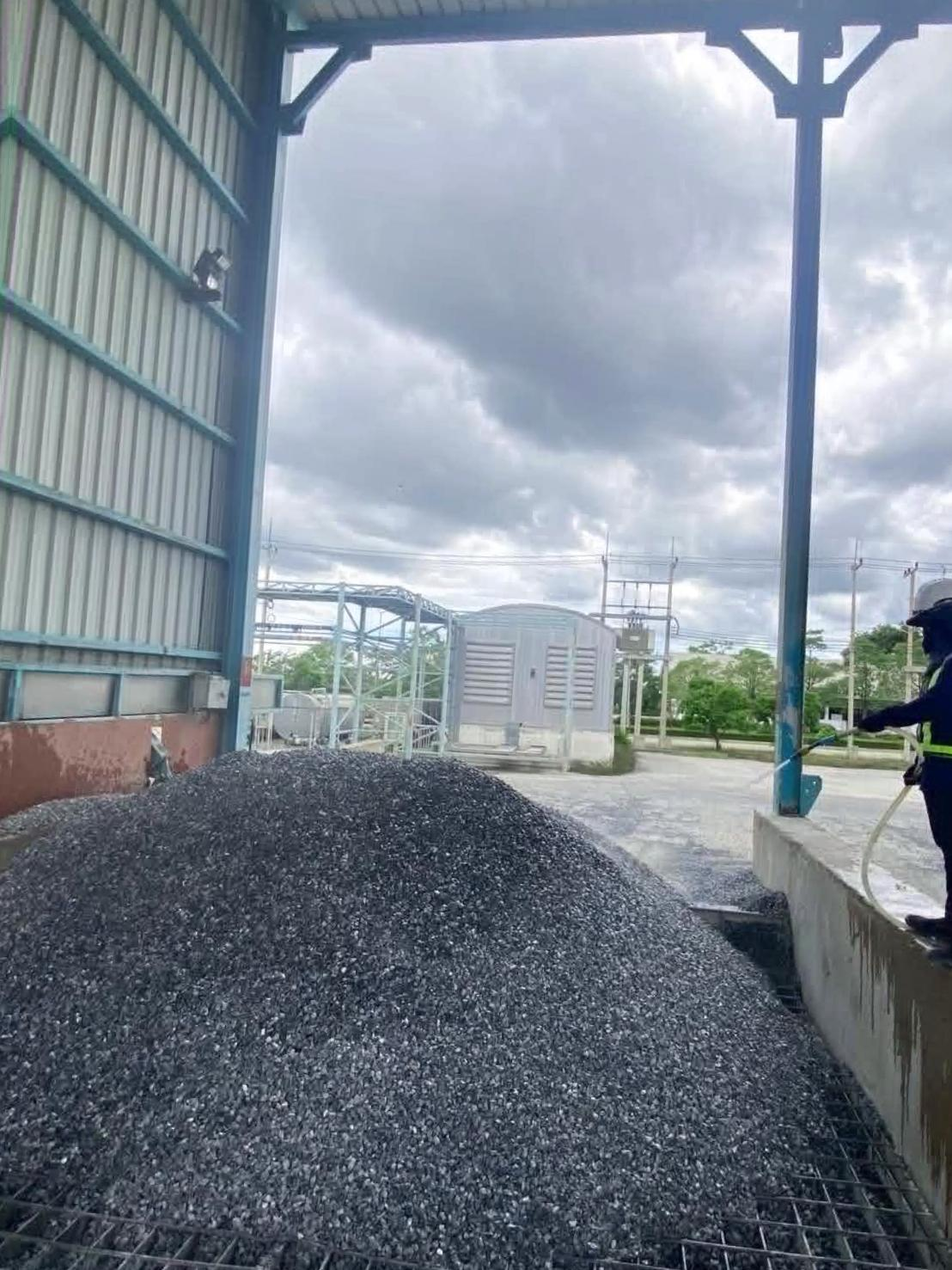gravel: (0, 750, 835, 1270), (0, 795, 129, 846), (691, 868, 788, 916)
